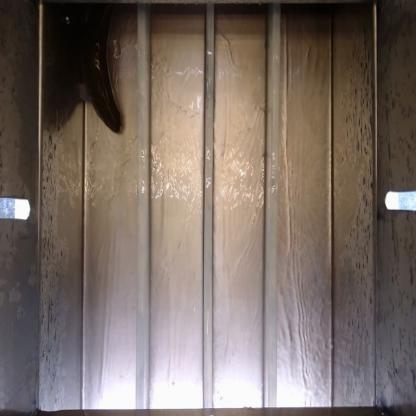pezw: (84, 9, 126, 137)
